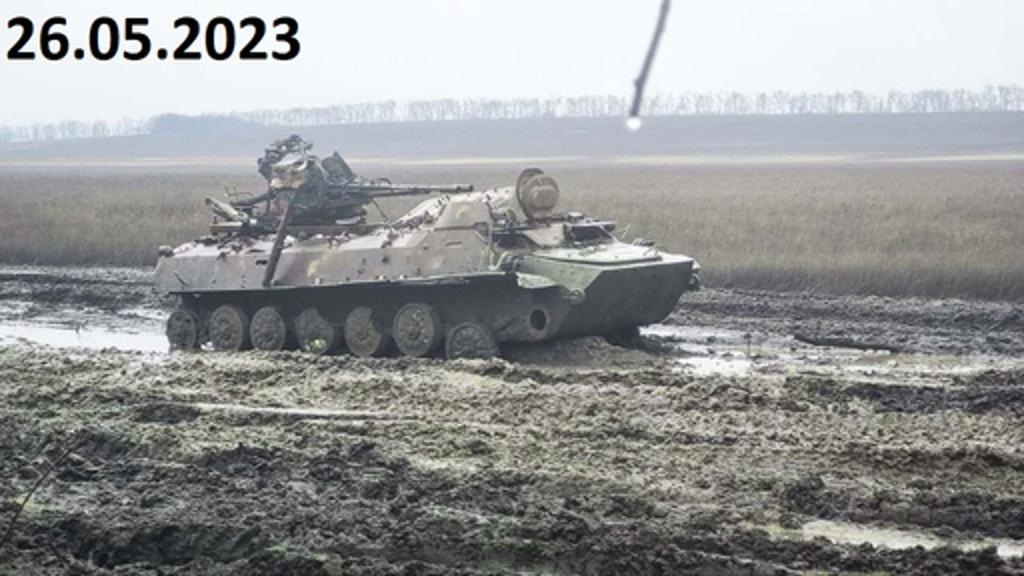APC-IFV: (146, 126, 696, 384)
